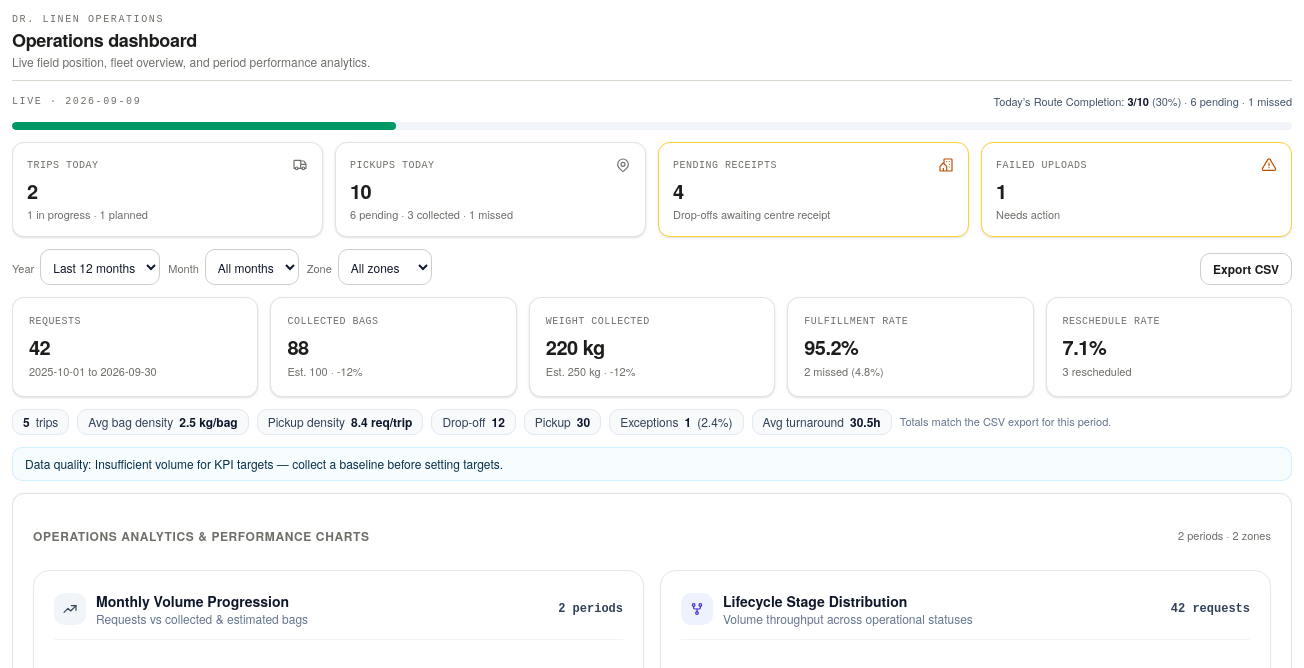
Test: TextileCapacityPage dashboard › shows an export failure without losing the analytics
Click the button "Export CSV" at x=1246, y=269, box [1200,253,1292,285]
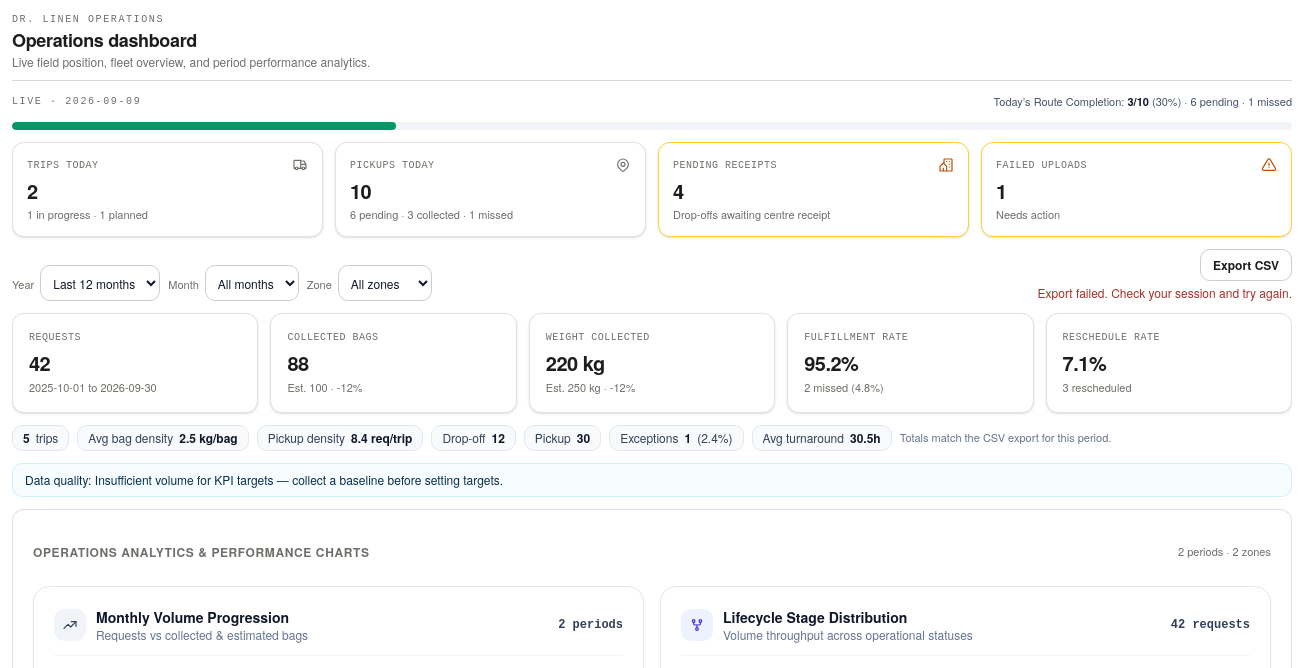
Expected: the text "42" is shown, [29,348,50,377]
Expected: the text "Export failed. Check your session and try again." is shown, [1038,285,1292,301]
